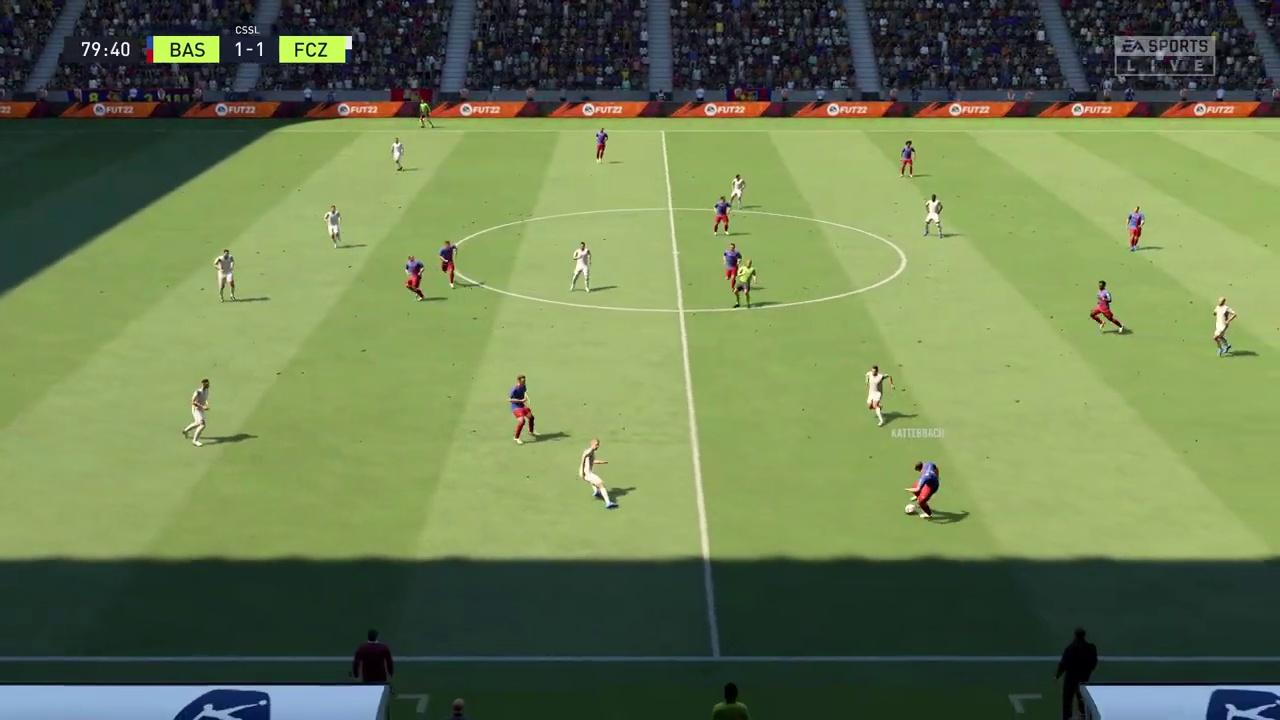scoreboard: (152, 36, 356, 63)
timestamp: (68, 37, 146, 60)
